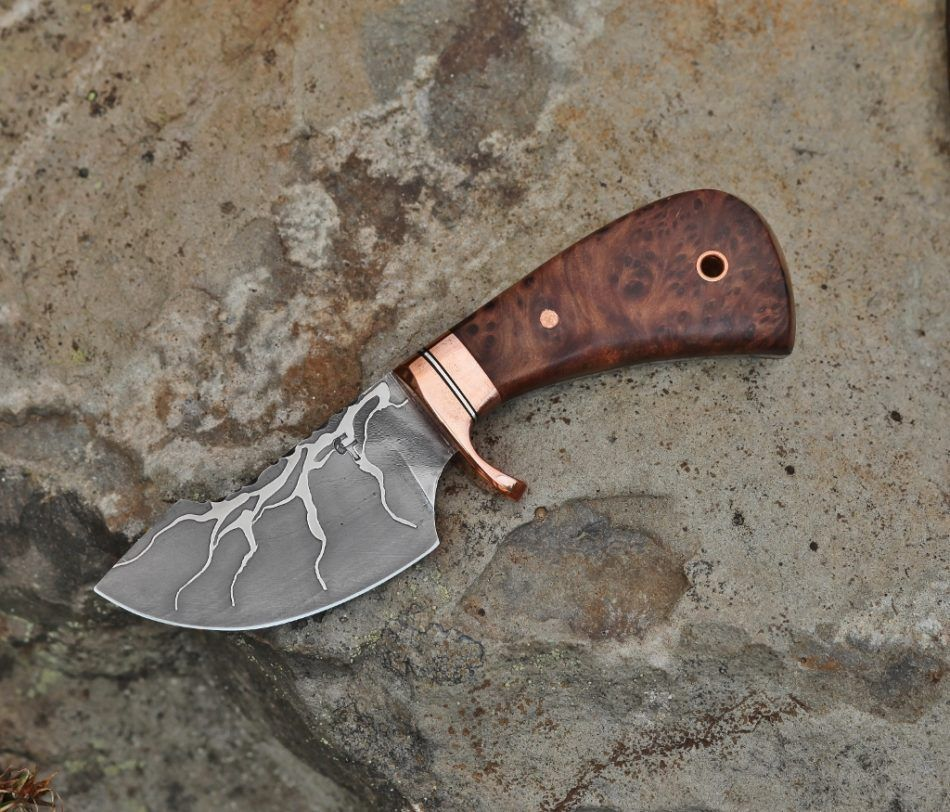knife: (77, 177, 803, 685)
